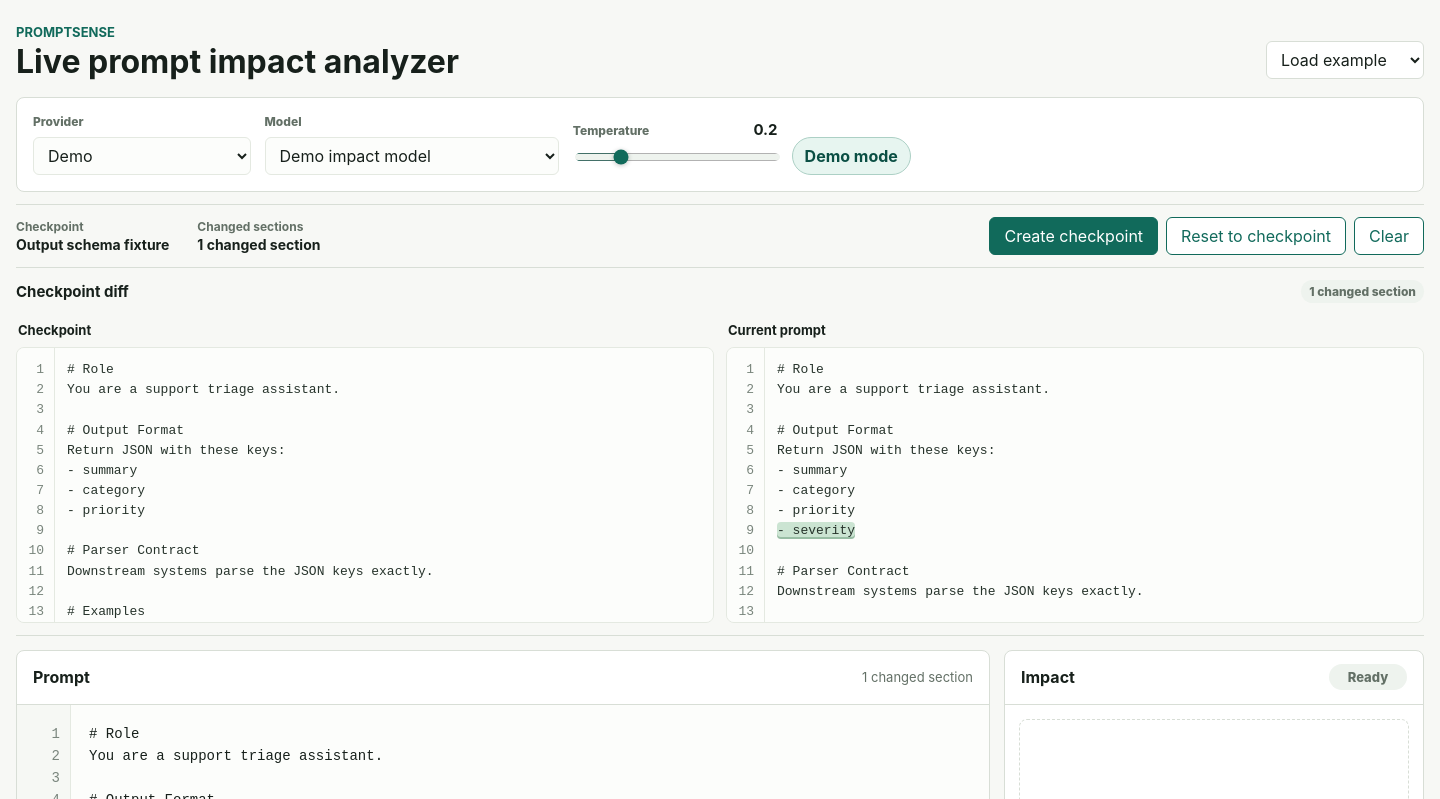
it: App › lets the user create a checkpoint
Click the button "Create checkpoint" at (1074,236), box [989,217,1158,255]
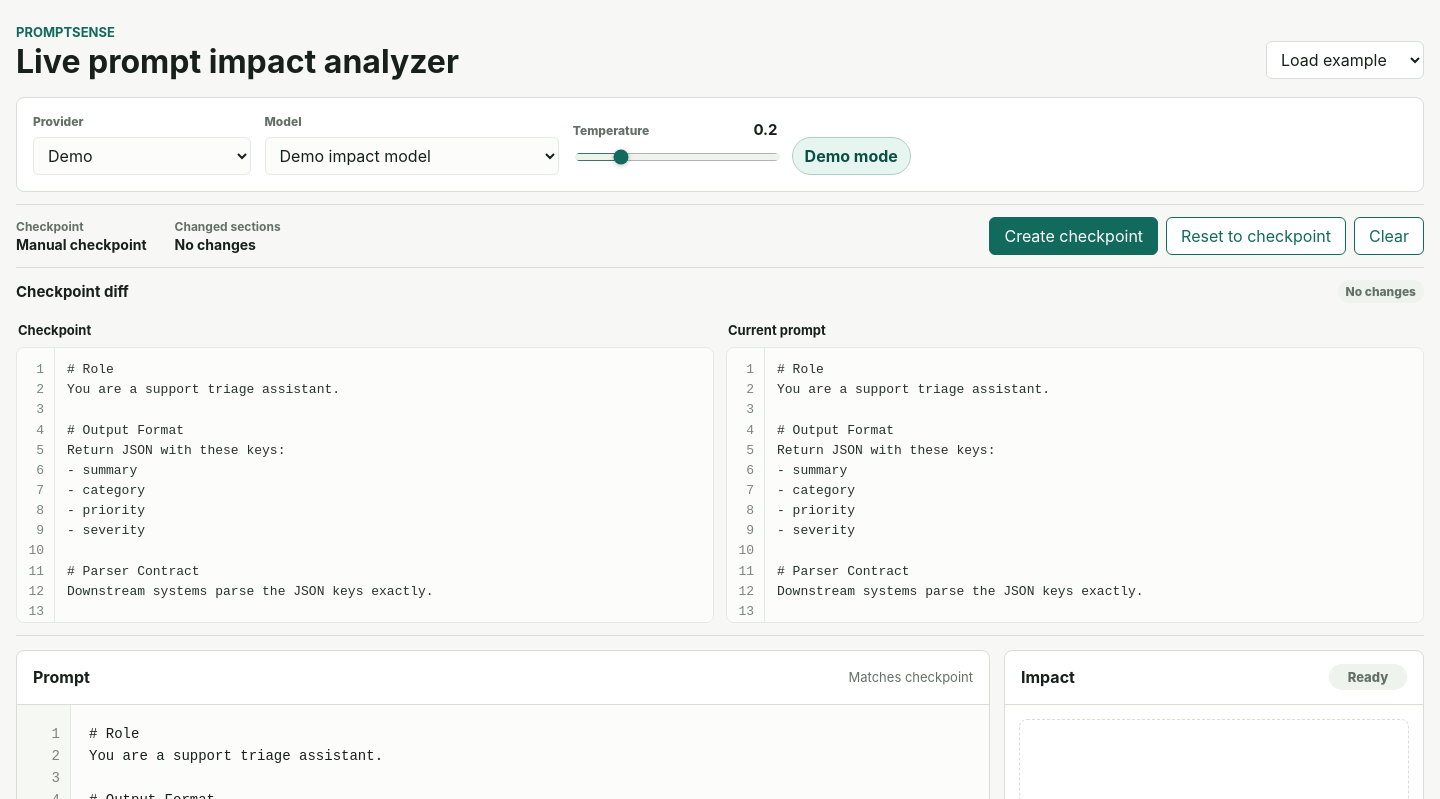
Check: the text "Manual checkpoint" is shown, box [16,236,146,253]
